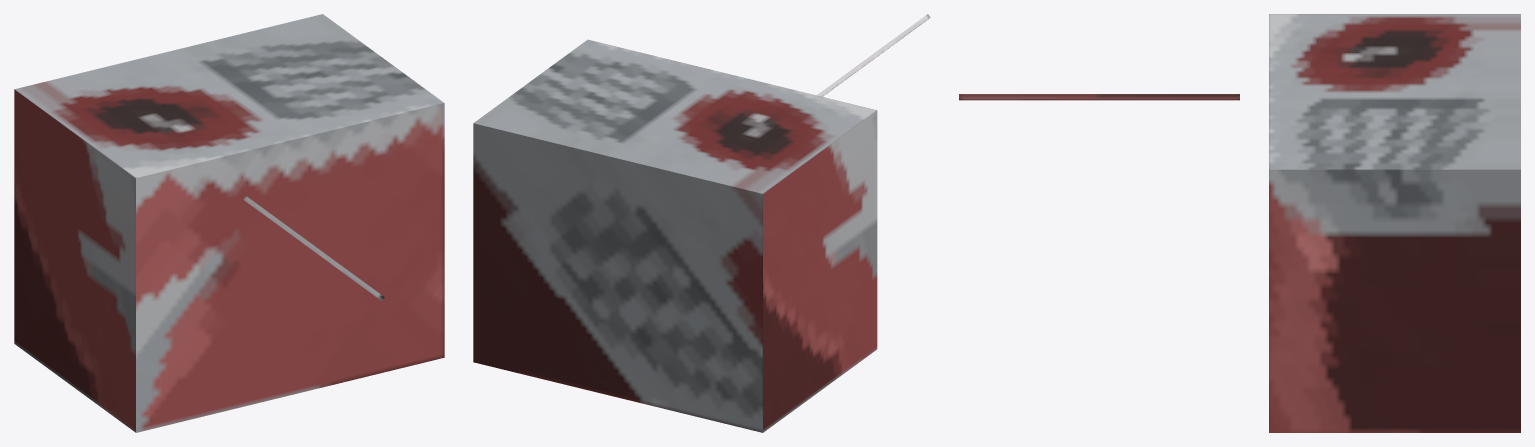
Rendered from pz_house_premium_radio.obj.
The picture shows the model from 3 angles, left to right: view 1: azimuth 30°, elevation 25°; view 2: azimuth 150°, elevation 25°; view 3: azimuth 270°, elevation 25°; orthographic projection. The views are drawn at different scales.
Parts seen in each view (by area): view 1: pz_house_premium_radio_|_1_caixa_painel_nativo, pz_house_premium_radio_|_2_antena; view 2: pz_house_premium_radio_|_1_caixa_painel_nativo, pz_house_premium_radio_|_2_antena; view 3: pz_house_premium_radio_|_1_caixa_painel_nativo, pz_house_premium_radio_|_2_antena.
Part boxes in pixels (x1,y1,x2,y2): pz_house_premium_radio_|_1_caixa_painel_nativo: (14, 14, 444, 432); pz_house_premium_radio_|_2_antena: (243, 196, 384, 300); pz_house_premium_radio_|_1_caixa_painel_nativo: (473, 39, 877, 432); pz_house_premium_radio_|_2_antena: (817, 14, 930, 96); pz_house_premium_radio_|_1_caixa_painel_nativo: (1269, 14, 1520, 432); pz_house_premium_radio_|_2_antena: (959, 94, 1239, 100).
Bounding box in the file's own units: 0.3148 × 0.2482 × 0.48.
1 material, 1 textured.
